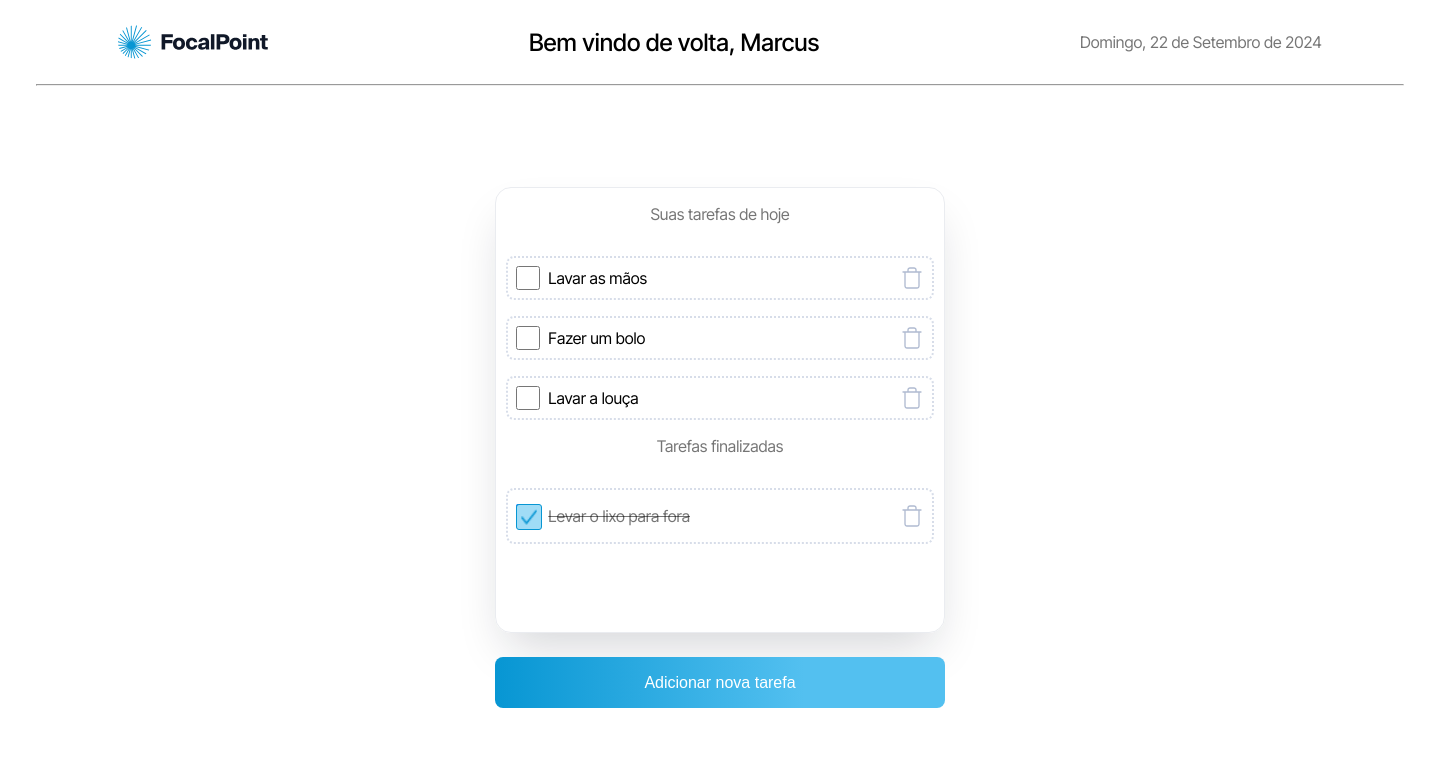
it: teste da aplicação FocalPoint › Task-modal-adicionar-tarefa
The width and height of the screenshot is (1440, 768).
Step 1. Click the button with test id "btn-nova-tarefa" → x=720, y=683, box x1=495 y1=657 x2=945 y2=708
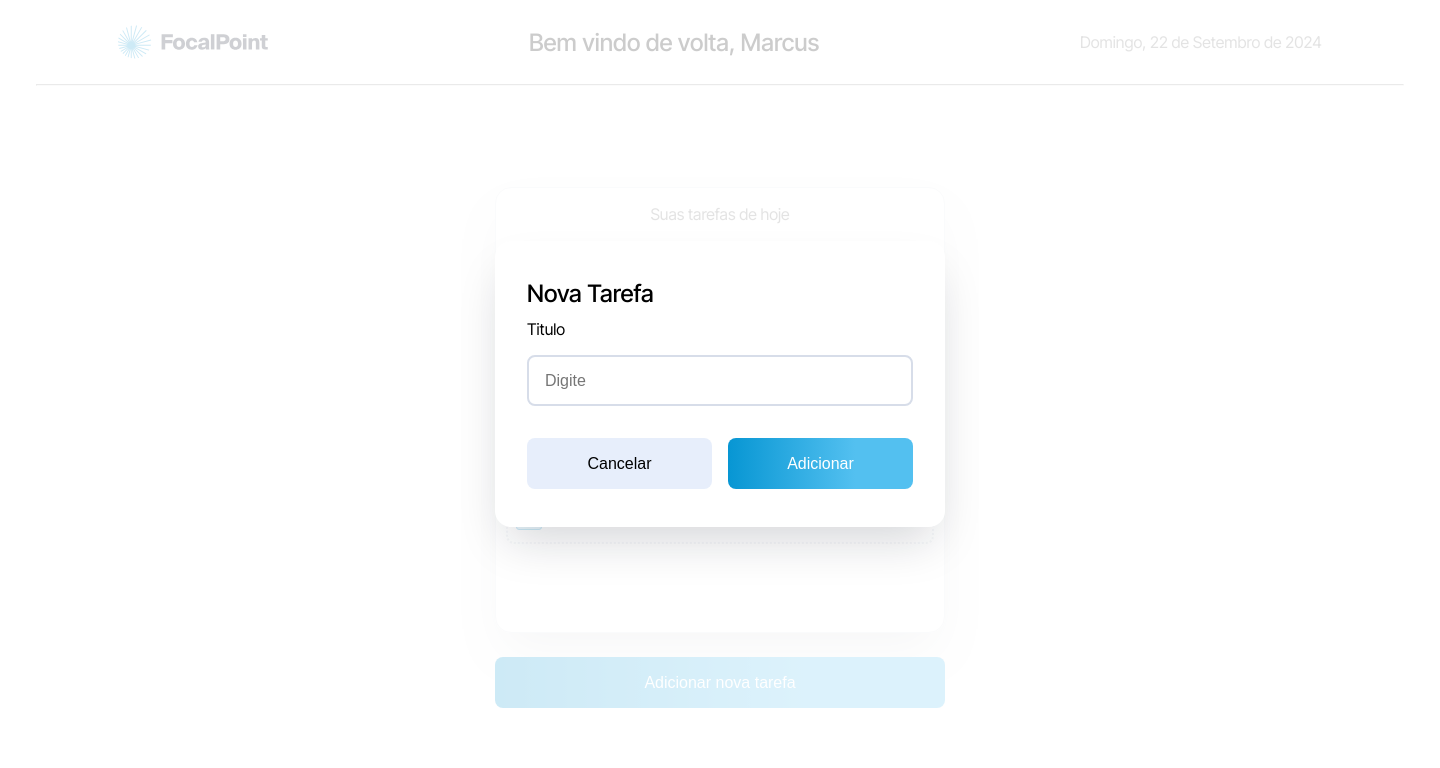
Expected: the element with test id "modal-criar-tarefa" is shown
Step 2. Type "Nova Tarefa" into the field named "title" → x=720, y=381, box x1=527 y1=355 x2=913 y2=406
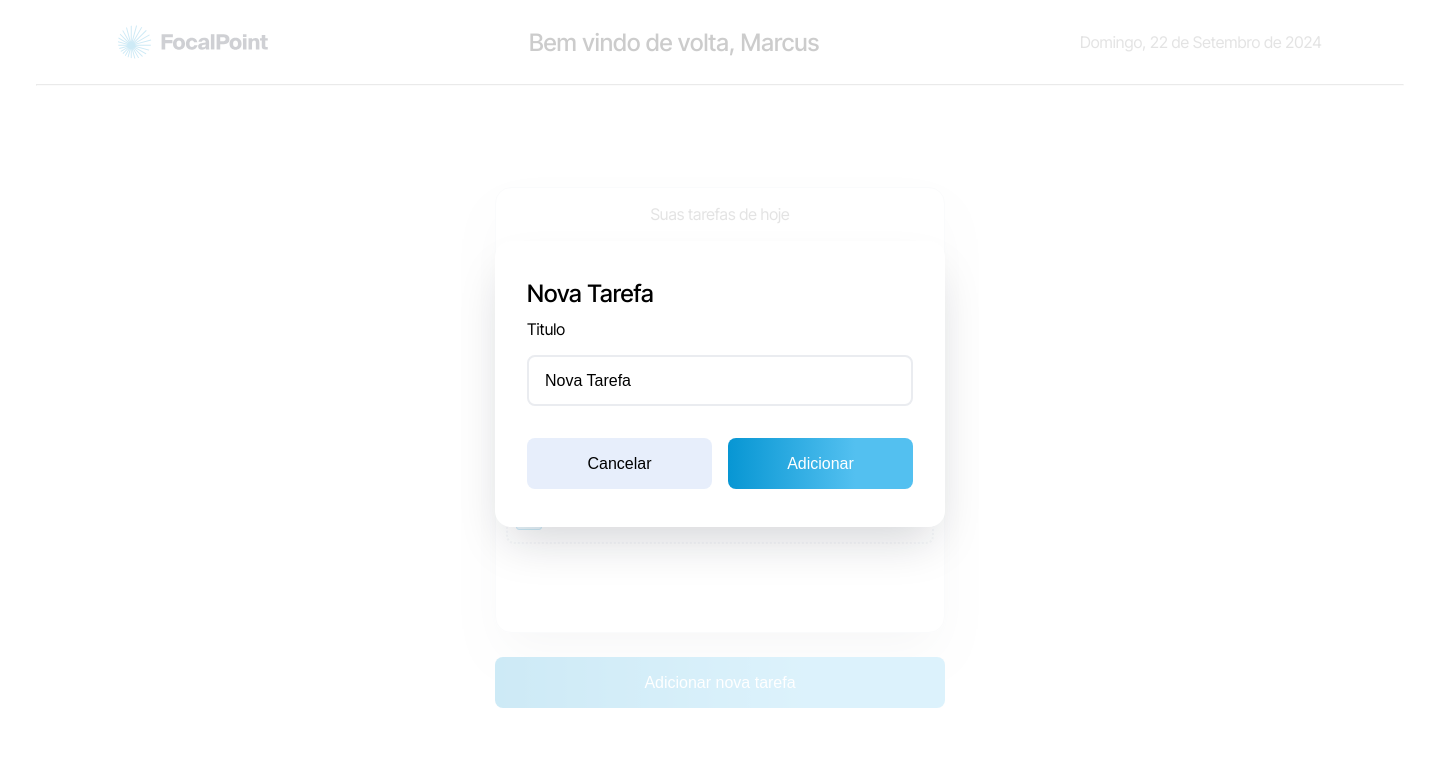
Step 3. Click the button with test id "btn-criar-tarefa" → x=821, y=464, box x1=728 y1=438 x2=913 y2=489
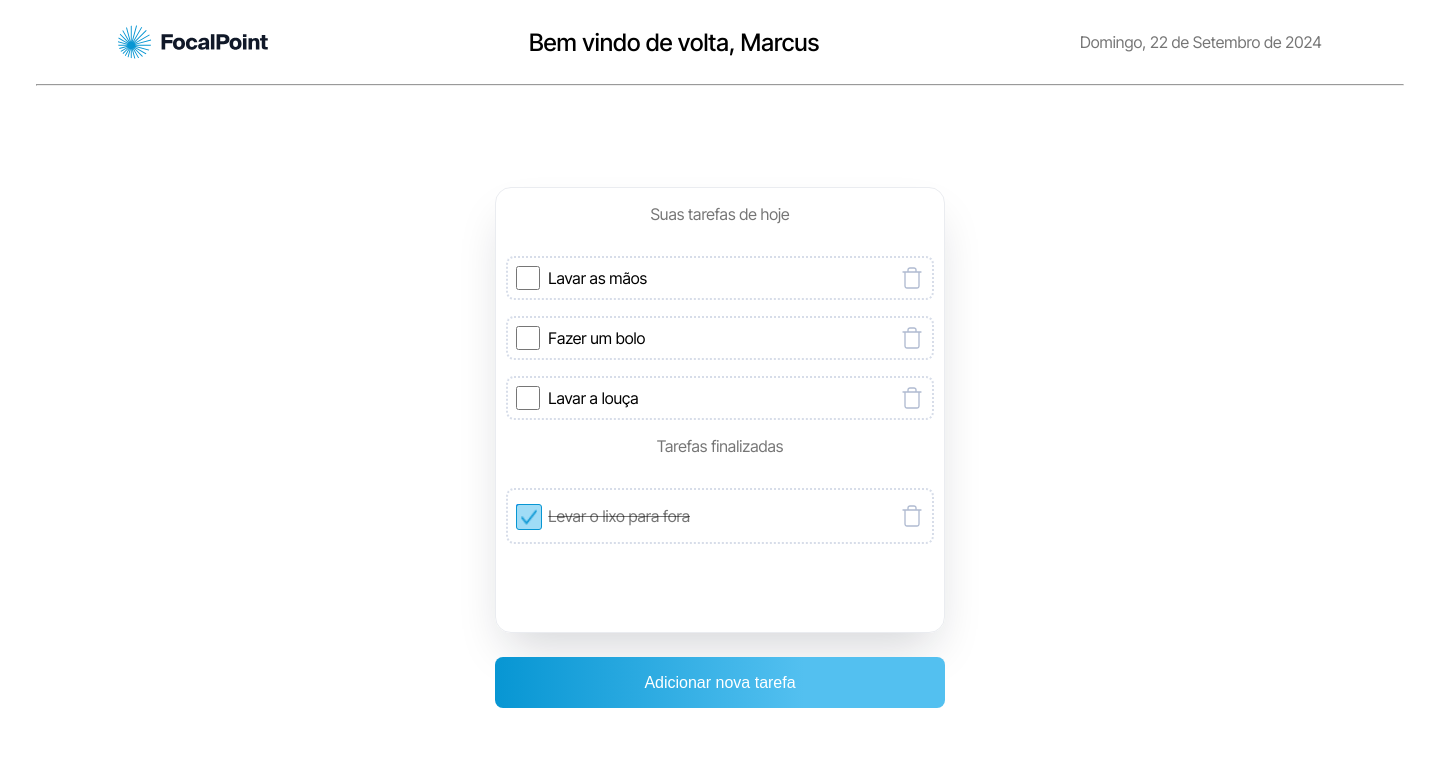
Expected: the element with test id "modal-criar-tarefa" is gone
Step 4. Scroll "bottom"
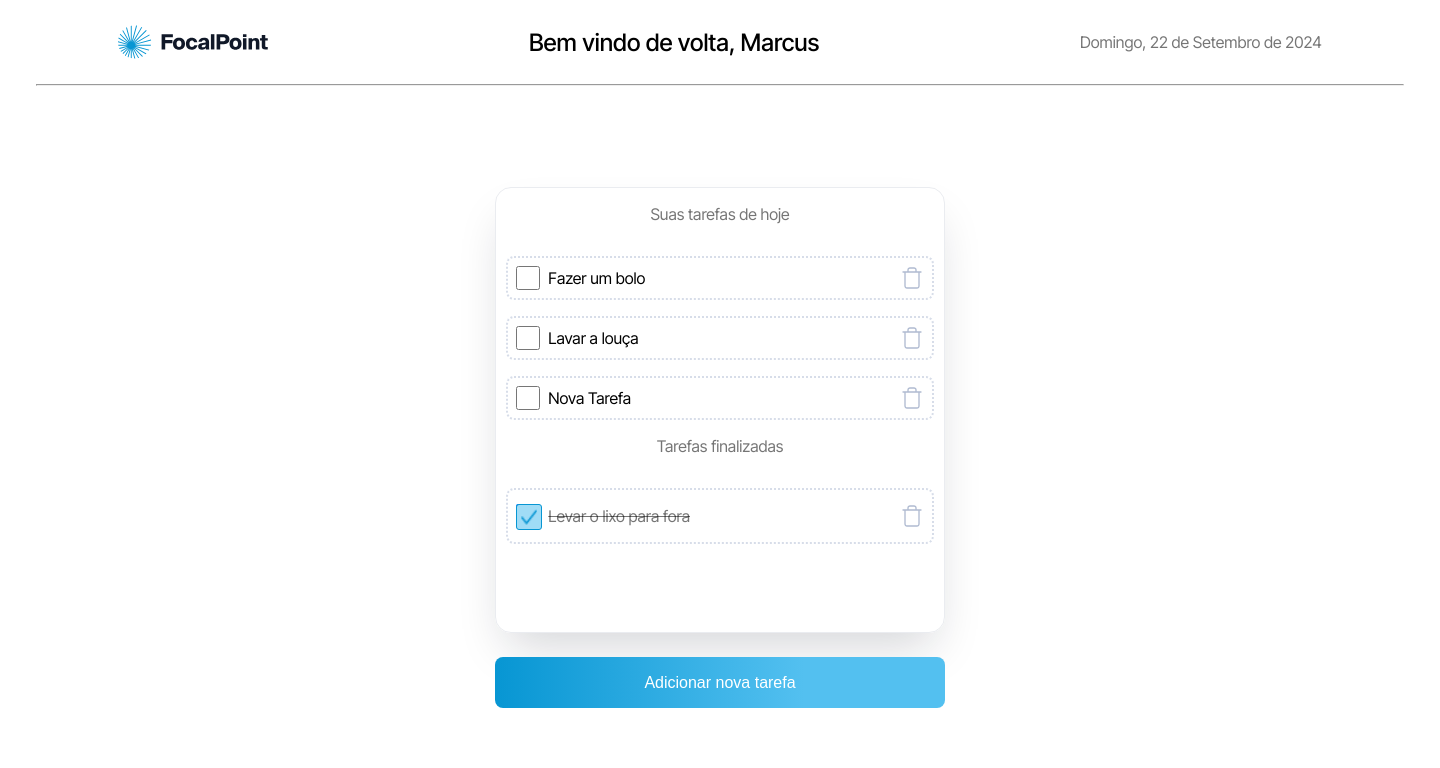
Expected: the element with test id "item-list" reads "Nova Tarefa", x1=548 y1=388 x2=631 y2=408
